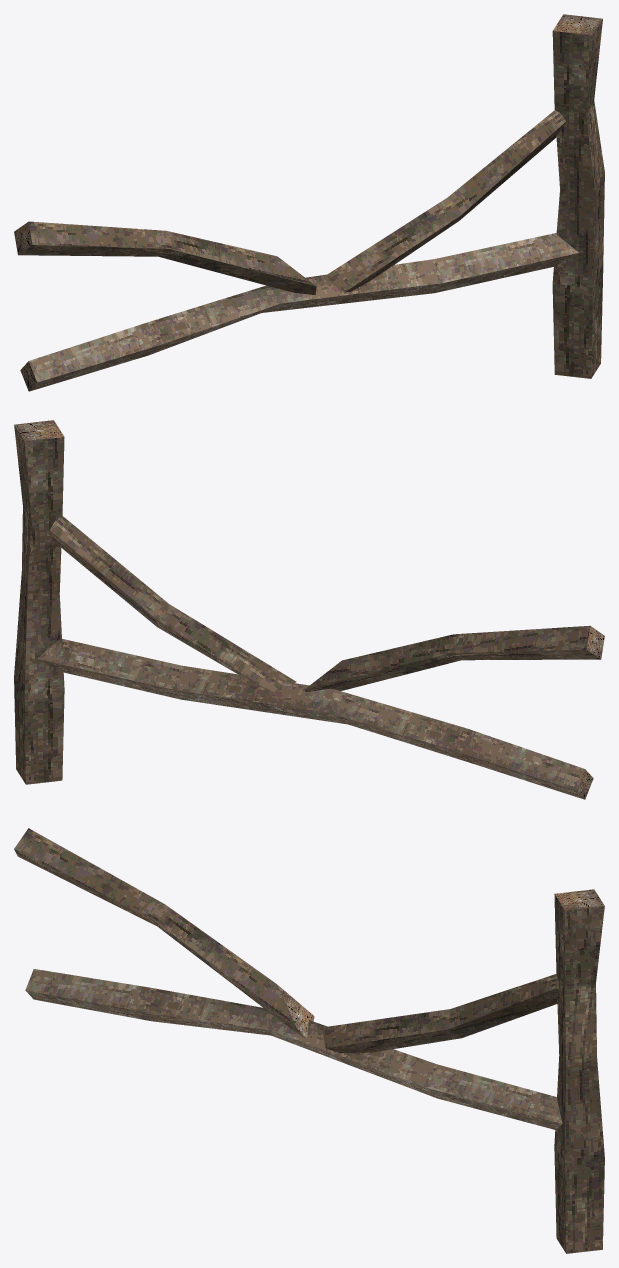
File: wooden_fence_broken_alt.glb
The picture shows the model from 3 angles, top to bottom: view 1: azimuth 30°, elevation 25°; view 2: azimuth 150°, elevation 25°; view 3: azimuth 330°, elevation 25°; orthographic projection.
Parts seen in each view (by area): view 1: wooden_fence_broken_alt; view 2: wooden_fence_broken_alt; view 3: wooden_fence_broken_alt.
Boxes of the visible parts, <box> form: wooden_fence_broken_alt: <box>14,14,604,391</box>; wooden_fence_broken_alt: <box>14,420,604,799</box>; wooden_fence_broken_alt: <box>14,828,604,1253</box>.
Bounding box in the file's own units: 2.14 × 1.2 × 0.1891.
1 material, 1 textured.
